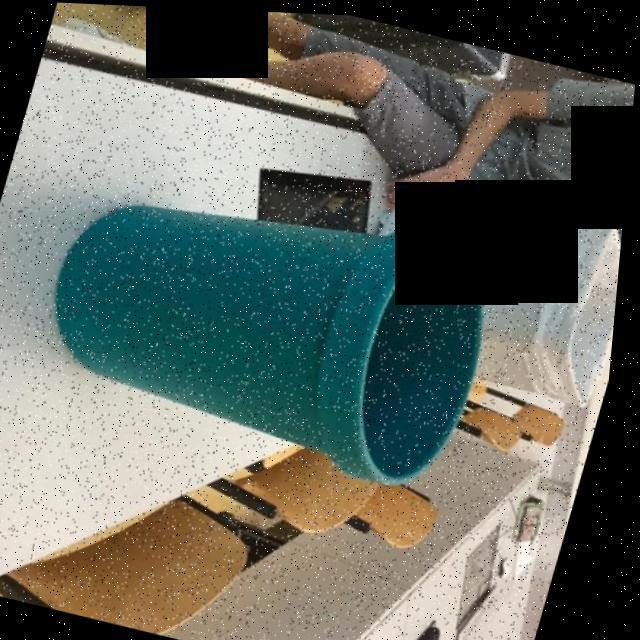bin: (0, 132, 563, 534)
